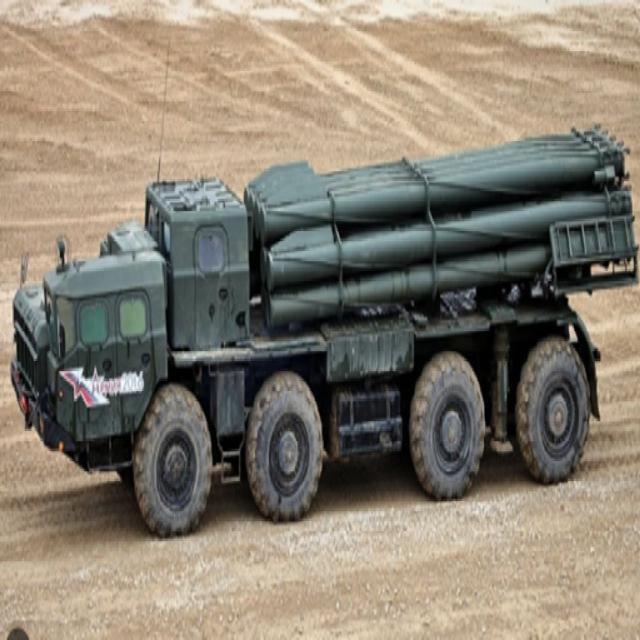MLRS: (2, 126, 628, 544)
